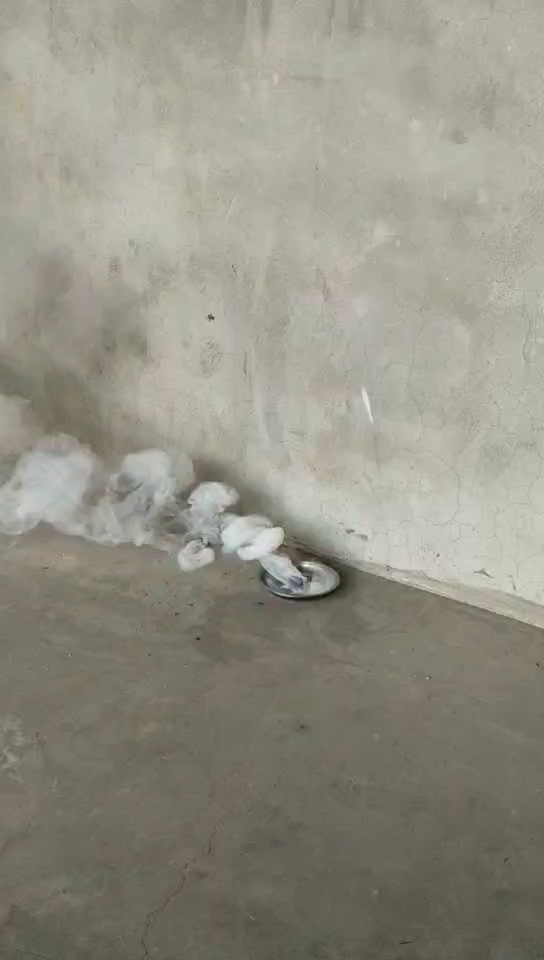smoke: (37, 413, 300, 593)
